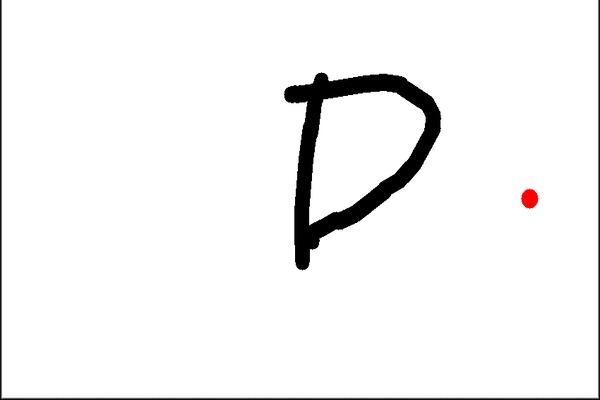D: (280, 67, 445, 273)
